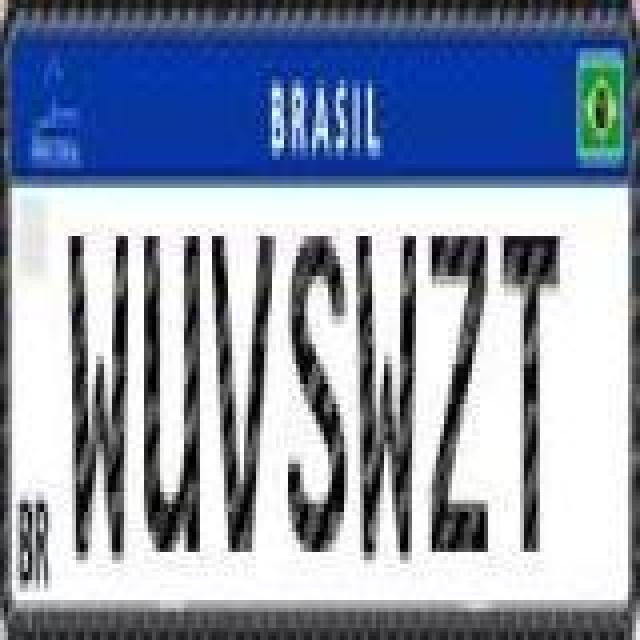S: (284, 230, 348, 554)
T: (498, 230, 558, 554)
U: (140, 230, 204, 554)
V: (210, 224, 278, 560)
W: (352, 232, 416, 568), (66, 232, 126, 568)
Z: (424, 230, 488, 554)
